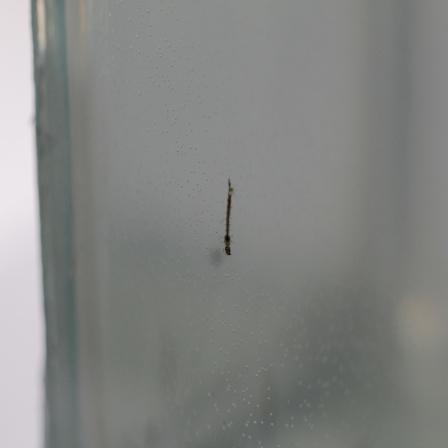Jentik-Nyamuk: (218, 173, 240, 258)
